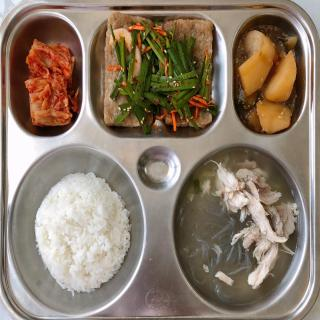Nasi: (33, 174, 136, 297)
